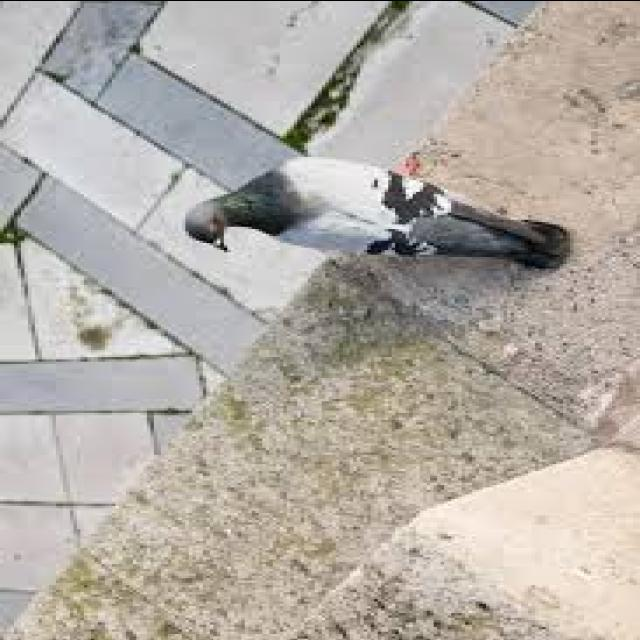pigeon: (162, 157, 566, 275)
